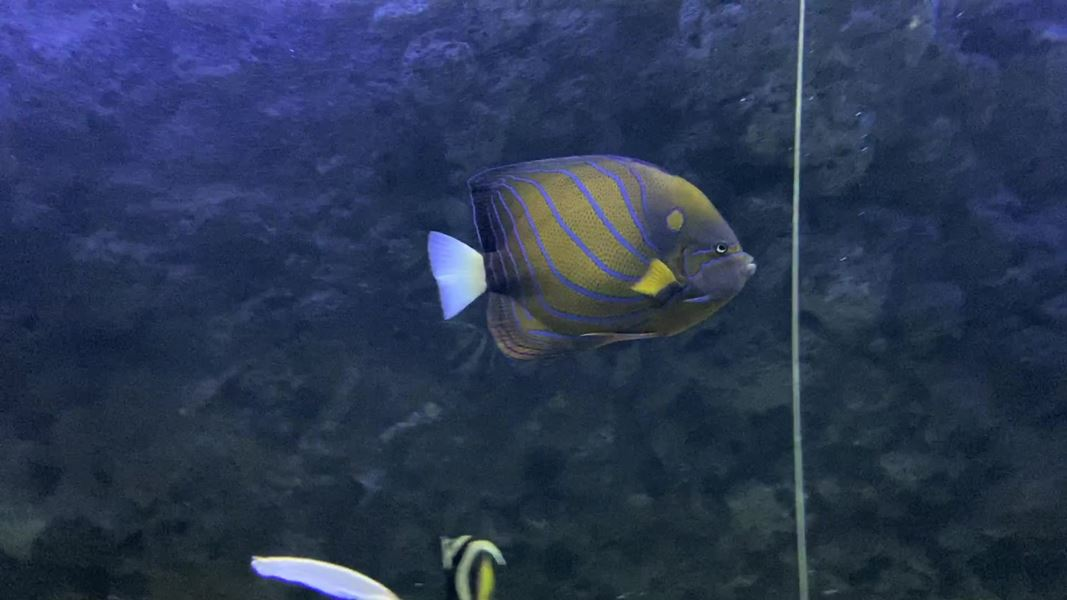Blue ring angelfish: (398, 140, 777, 384)
